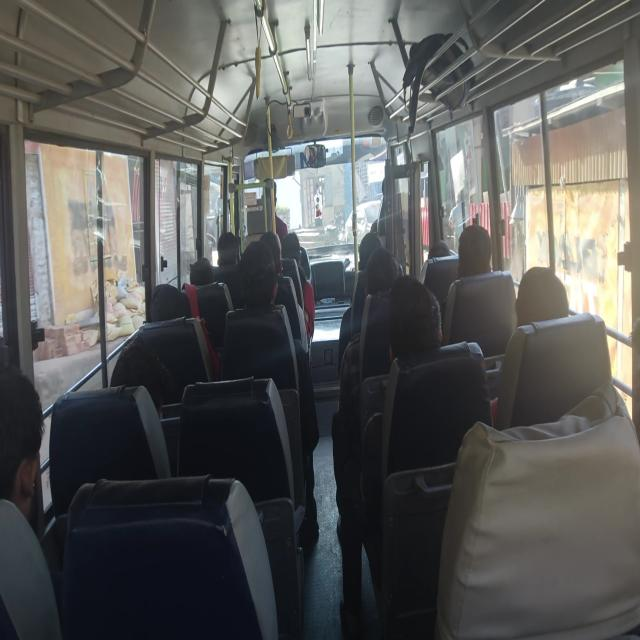person: (1, 354, 54, 528), (383, 272, 448, 352), (110, 337, 178, 406), (512, 260, 572, 326), (238, 240, 276, 316), (362, 248, 409, 300), (146, 276, 198, 322), (458, 218, 496, 275), (374, 163, 412, 210), (348, 230, 395, 260), (261, 166, 287, 217), (282, 233, 310, 279), (261, 223, 285, 275), (187, 253, 217, 289), (213, 228, 239, 260), (424, 233, 457, 257)
